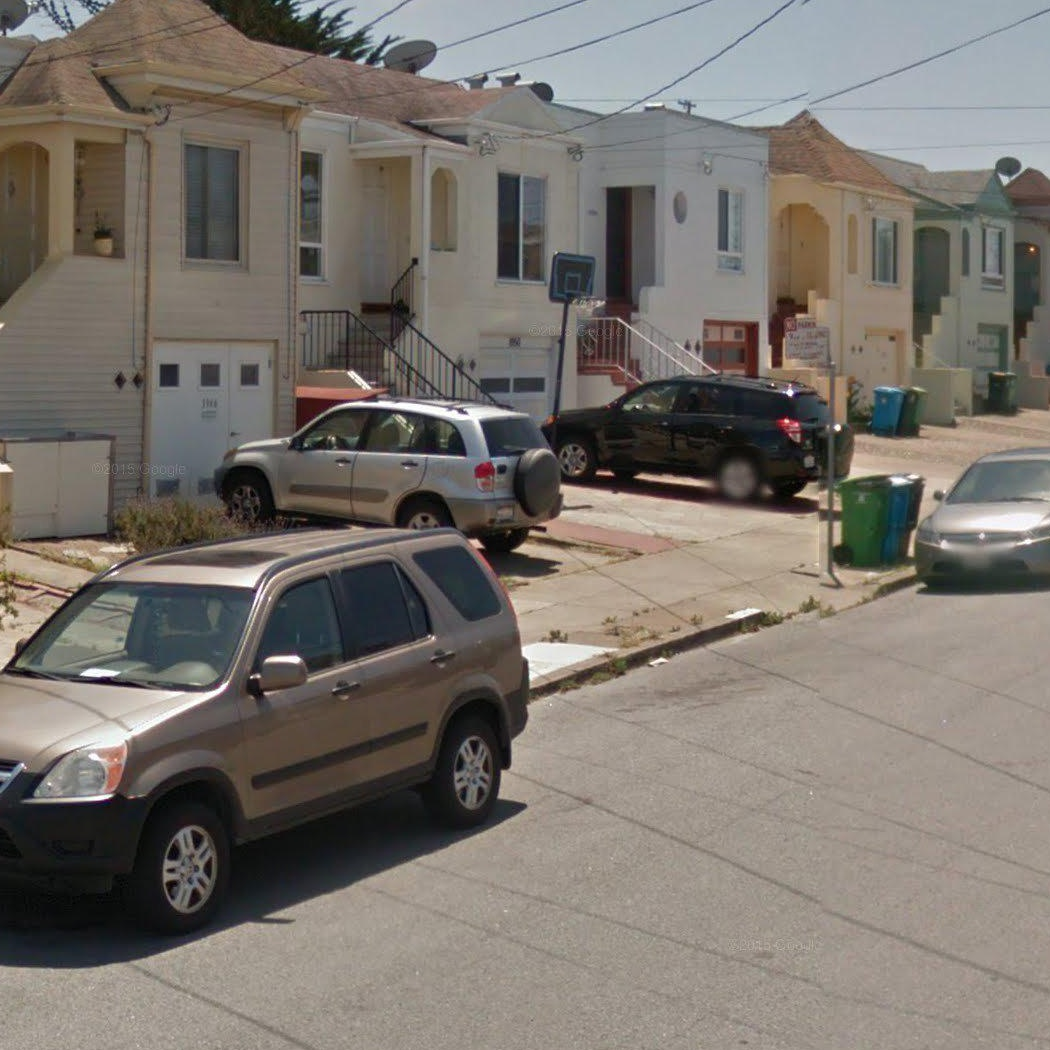No Parking: (784, 316, 831, 364)
